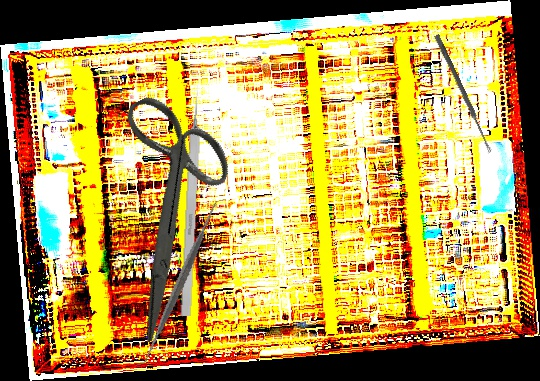Hook Surgical: (179, 84, 204, 317)
Iris Scissors: (48, 76, 287, 344)
Spatula Surgical: (96, 198, 264, 367)
Surgical Spoon: (433, 34, 494, 154)
